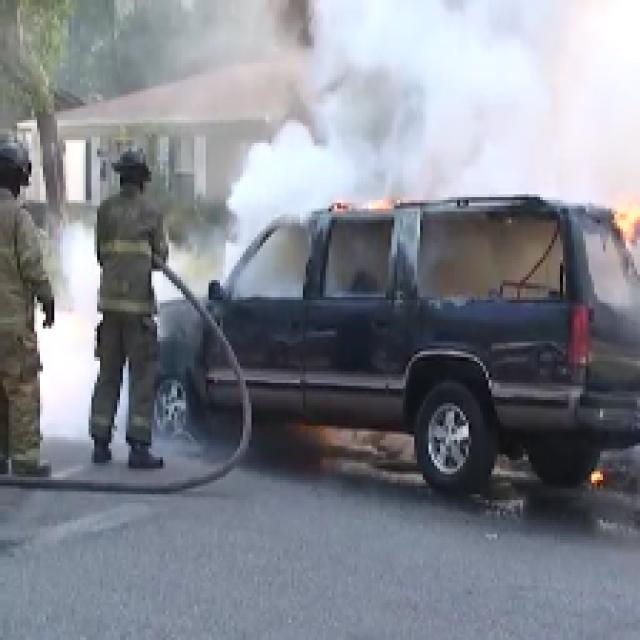smoke: (296, 10, 627, 201)
